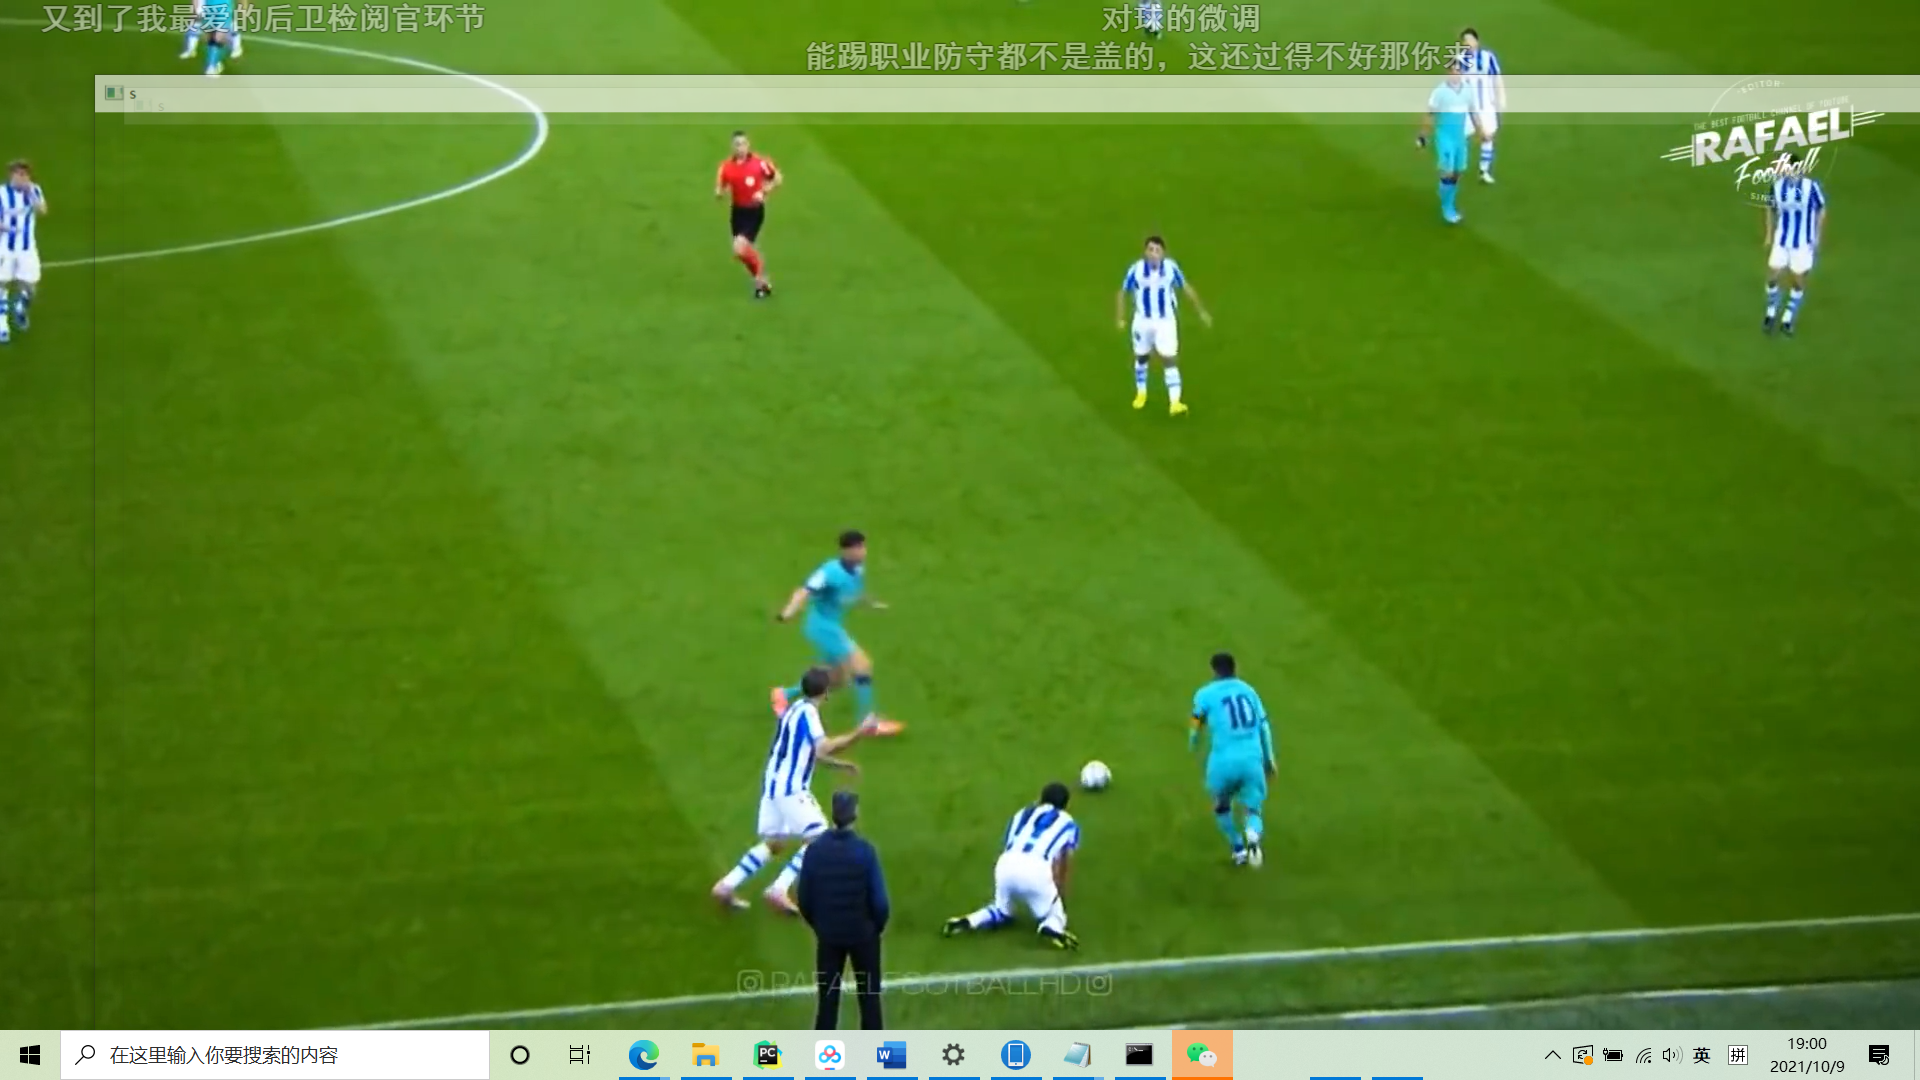ft: (1079, 760, 1112, 794)
